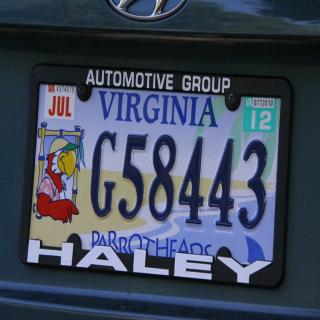license: (18, 84, 282, 291)
